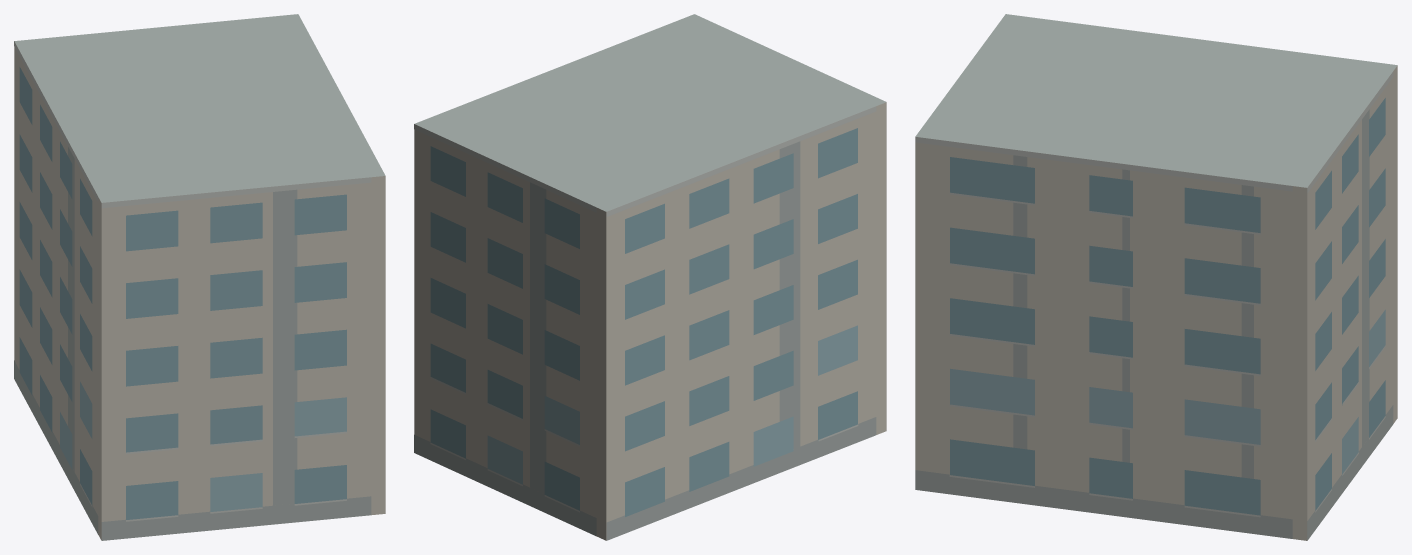
Rendered from survey-upis-32814032.glb.
3 views of the same model, side by side, from view 1: azimuth 30°, elevation 25°; view 2: azimuth 150°, elevation 25°; view 3: azimuth 270°, elevation 25° (orthographic). The views are drawn at different scales.
Visible parts, largest first — view 1: survey-upis-32814032.tmp; view 2: survey-upis-32814032.tmp; view 3: survey-upis-32814032.tmp.
Part boxes in pixels (x1,y1,x2,y2): survey-upis-32814032.tmp: [14, 14, 385, 540]; survey-upis-32814032.tmp: [414, 14, 886, 540]; survey-upis-32814032.tmp: [915, 14, 1397, 540].
Bounding box in the file's own units: 16.11 × 15.25 × 18.89.
